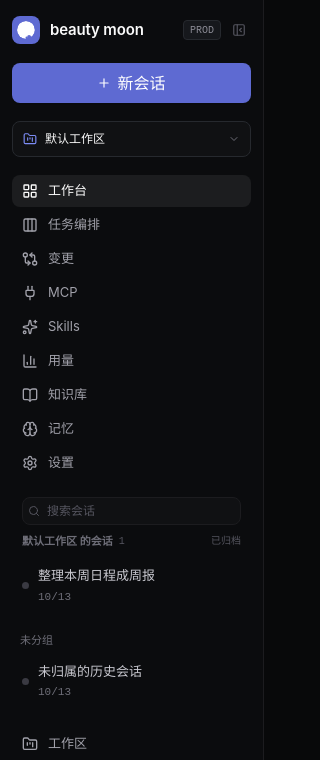
Scenario: ConsoleSidebar 工作区/会话 › 搜索走服务端并改成扁平结果,无匹配时给提示
expect the text "整理本周日程成周报" is shown: met, box x1=38 y1=568 x2=155 y2=584
Step 1. Type "销售" into the field labelled "搜索会话" → (132, 511), box x1=22 y1=497 x2=241 y2=525
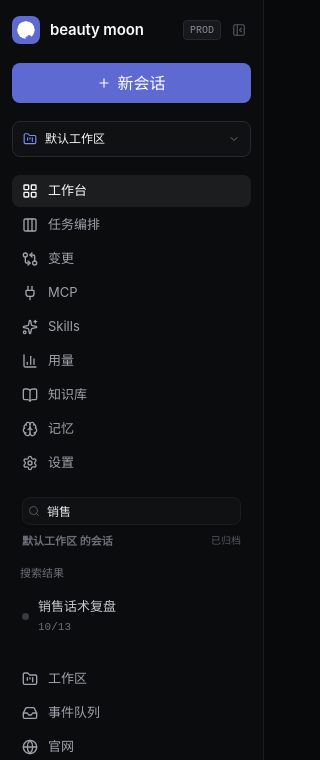
expect the text "搜索结果" is shown: met, box x1=20 y1=566 x2=64 y2=580
expect the list named "搜索结果" is shown: met, box x1=22 y1=598 x2=116 y2=634
expect the text "销售话术复盘" is shown: met, box x1=38 y1=598 x2=116 y2=614
Step 2. Replace the text in the field named "搜索会话" with "不存在" → (132, 511), box x1=22 y1=497 x2=241 y2=525
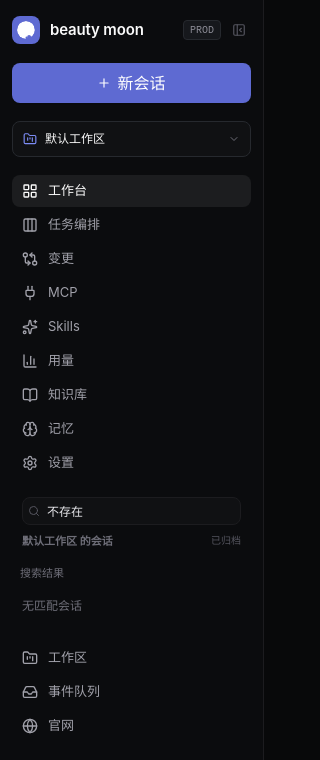
expect the text "无匹配会话" is shown: met, box x1=22 y1=598 x2=82 y2=613
